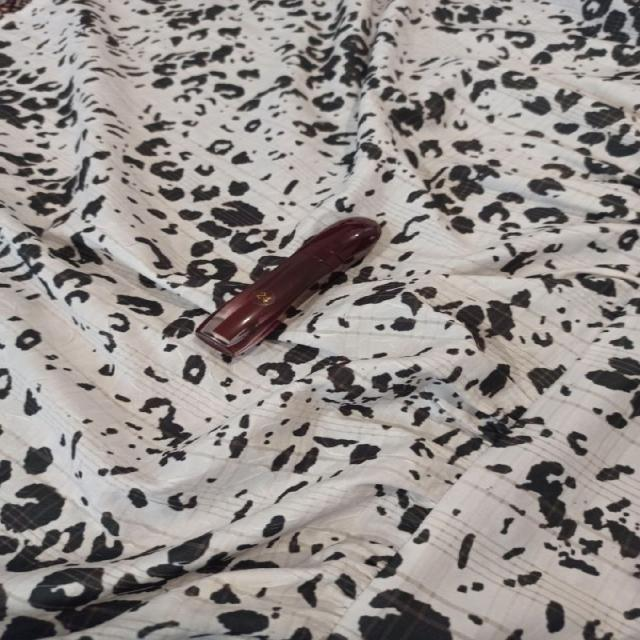lipstick: (194, 215, 381, 358)
